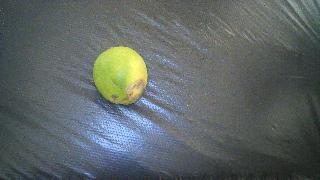DESECHO: (93, 46, 148, 105)
